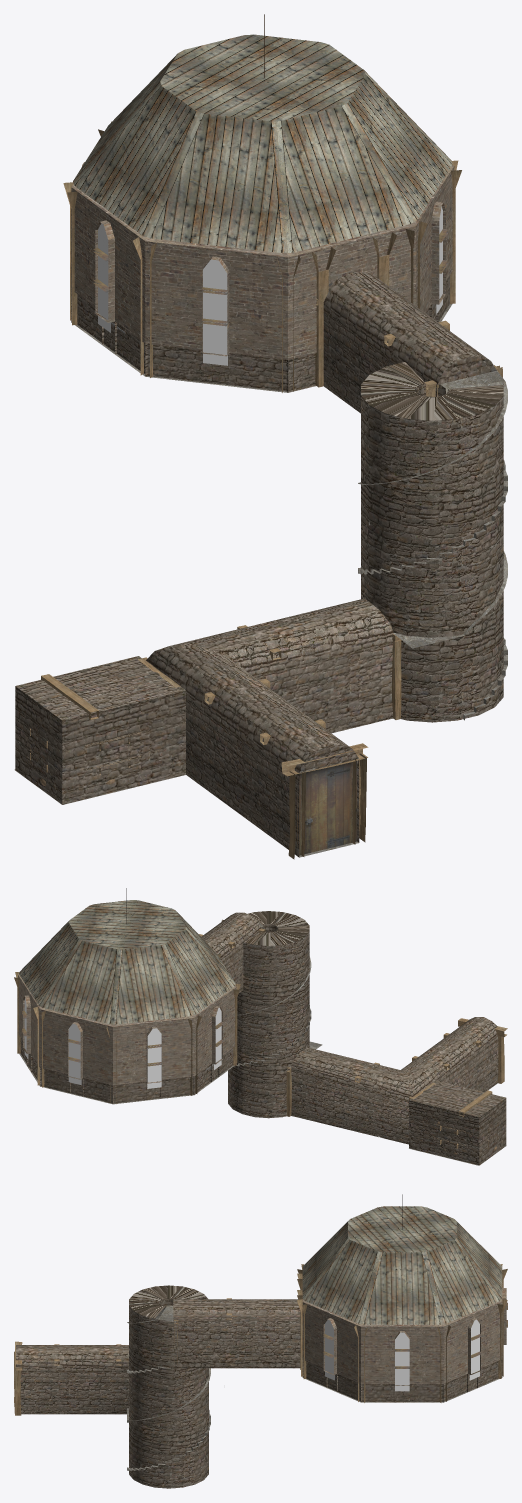
The model's file is thief_env_01a.FBX.
The picture shows the model from 3 angles, top to bottom: view 1: azimuth 30°, elevation 25°; view 2: azimuth 150°, elevation 25°; view 3: azimuth 270°, elevation 25°; orthographic projection. The views are drawn at different scales.
Parts seen in each view (by area): view 1: Cylinder003, Plane094, Plane093, Object051, Object018, Object009, Plane092, Box037, Plane046, Box040, Box041, Object003; view 2: Cylinder003, Plane094, Plane093, Object051, Object004, Object005, Box016, Object013, Object003, Box018, Box041; view 3: Cylinder003, Plane094, Plane093, Object007, Object006, Object008, Plane092, Box021, Box018, Box040.
Part boxes in pixels (<box>): Cylinder003: <box>71,34,454,392</box>; Plane094: <box>323,272,503,722</box>; Plane093: <box>146,598,393,857</box>; Object051: <box>15,656,185,804</box>; Object018: <box>297,761,356,855</box>; Object009: <box>203,259,227,365</box>; Plane092: <box>358,370,507,648</box>; Box037: <box>312,246,335,387</box>; Plane046: <box>358,470,507,720</box>; Box040: <box>352,753,366,844</box>; Box041: <box>288,769,305,859</box>; Object003: <box>98,223,110,332</box>; Cylinder003: <box>18,900,236,1104</box>; Plane094: <box>201,911,309,1118</box>; Plane093: <box>291,1017,498,1144</box>; Object051: <box>409,1080,506,1165</box>; Object004: <box>147,1028,161,1088</box>; Object005: <box>68,1023,81,1085</box>; Box016: <box>188,1015,201,1095</box>; Object013: <box>21,1010,223,1066</box>; Object003: <box>214,1007,221,1069</box>; Box018: <box>33,1006,45,1087</box>; Box041: <box>498,1036,504,1083</box>; Cylinder003: <box>302,1206,506,1402</box>; Plane094: <box>129,1285,300,1488</box>; Plane093: <box>16,1345,128,1414</box>; Object007: <box>395,1332,409,1391</box>; Object006: <box>469,1319,479,1380</box>; Object008: <box>325,1319,334,1380</box>; Plane092: <box>127,1305,210,1422</box>; Box021: <box>297,1299,307,1378</box>; Box018: <box>497,1299,507,1378</box>; Box040: <box>14,1365,21,1415</box>.
Size of what is drawn, in the model's own units: 1990 by 1643 by 2551.
